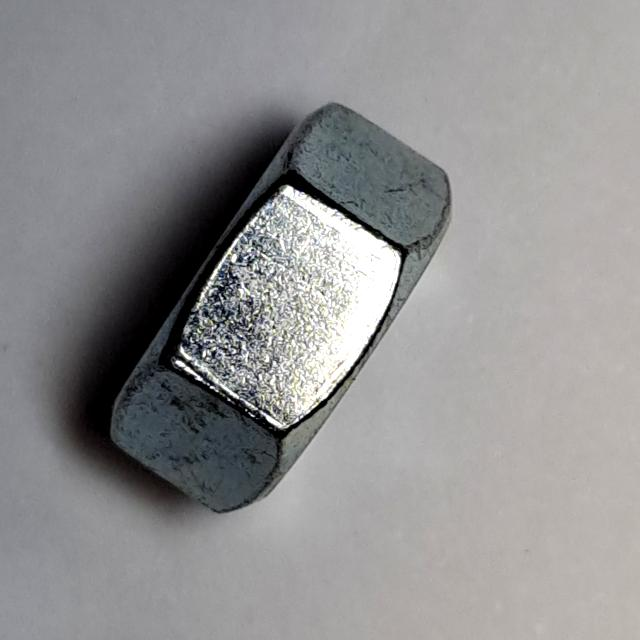Side_Excellent: (72, 79, 486, 542)
